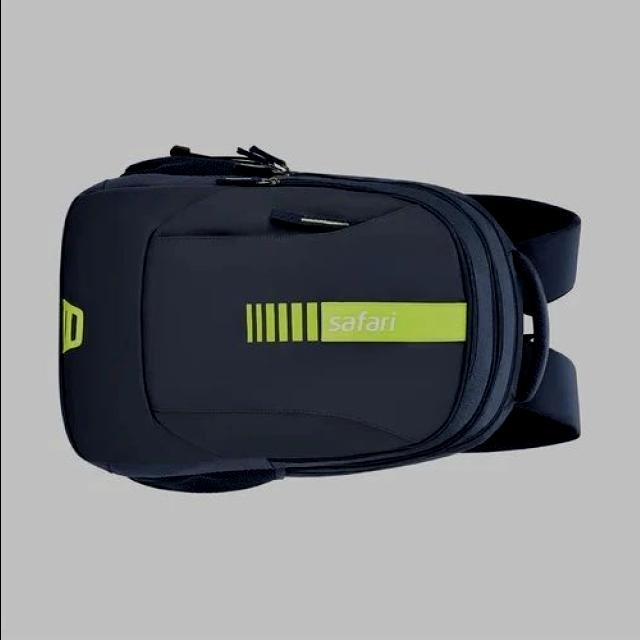backpack: (59, 146, 584, 496)
